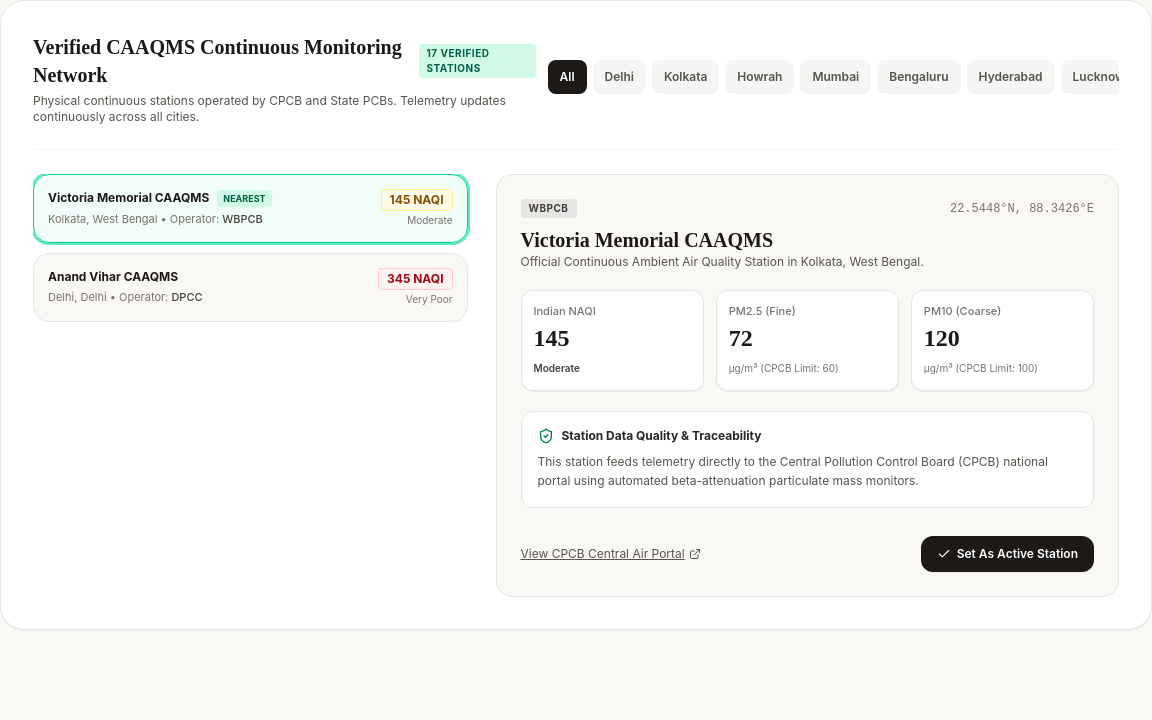
it: StationExplorer Component › renders stations, filters by city, and selects a station
This screenshot has width=1152, height=720.
Check: the text "Victoria Memorial CAAQMS" is shown, box [48,190,209,206]
Click the button "Delhi".
click(619, 77)  # box [593,60,646,94]
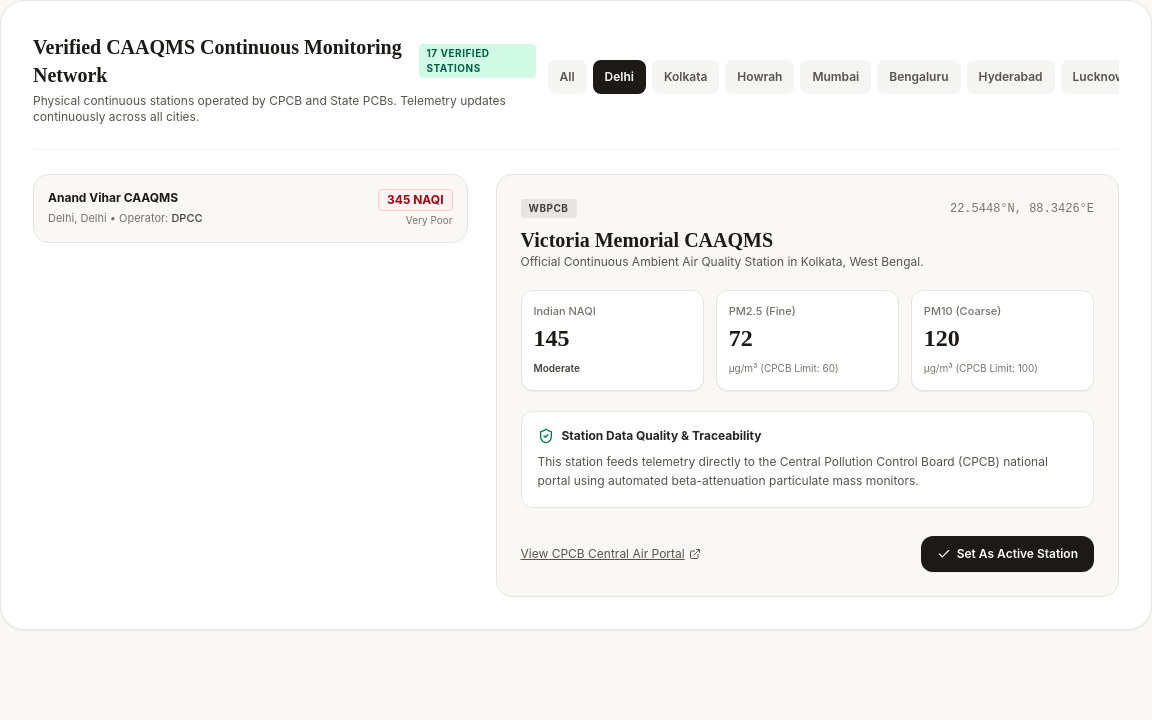
Check: the text "Anand Vihar CAAQMS" is shown, box [48,190,178,206]
Check: the button "Delhi" is pressed, box [593,60,646,94]
